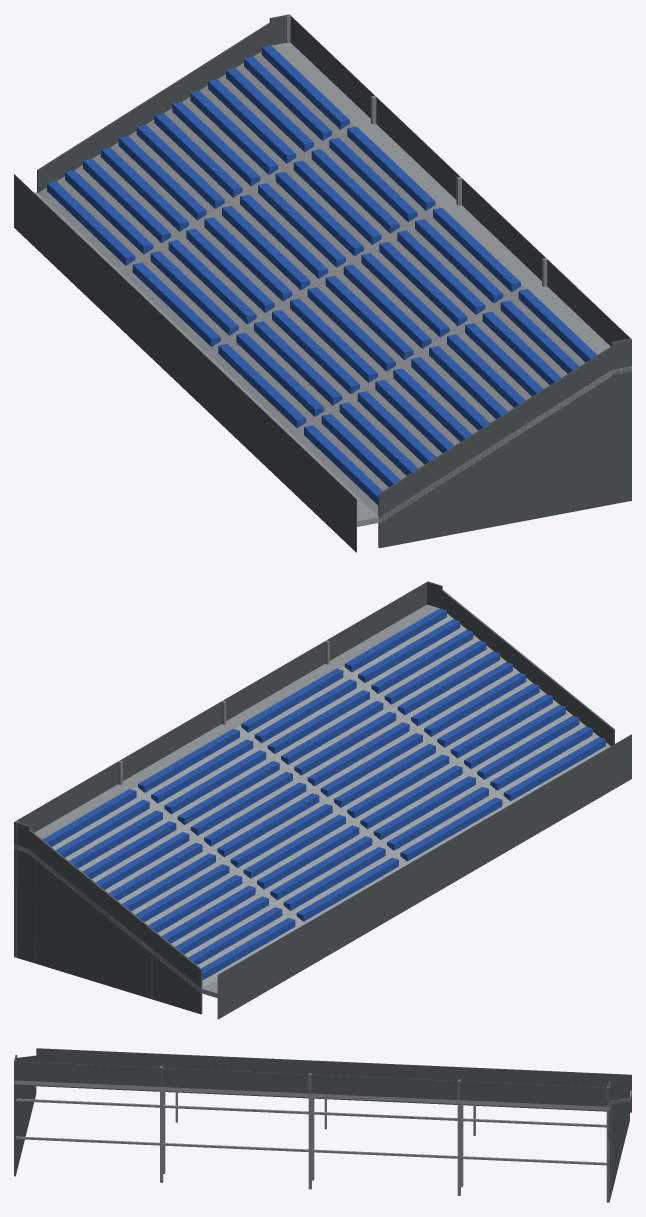
The model's file is mza_stand_lat_parabolica_c.glb.
3 renders of one model, top to bottom at view 1: azimuth 30°, elevation 25°; view 2: azimuth 150°, elevation 25°; view 3: azimuth 270°, elevation 25°, orthographic. The views are drawn at different scales.
Parts seen in each view (by area): view 1: monza-lat-parabolica-c; view 2: monza-lat-parabolica-c; view 3: monza-lat-parabolica-c.
Boxes of the visible parts, x1,y1,x2,y2 form: monza-lat-parabolica-c: (14, 14, 631, 552); monza-lat-parabolica-c: (14, 581, 631, 1019); monza-lat-parabolica-c: (14, 1048, 631, 1202).
Size of the model in its own units: 15.86 by 7.28 by 35.51.
